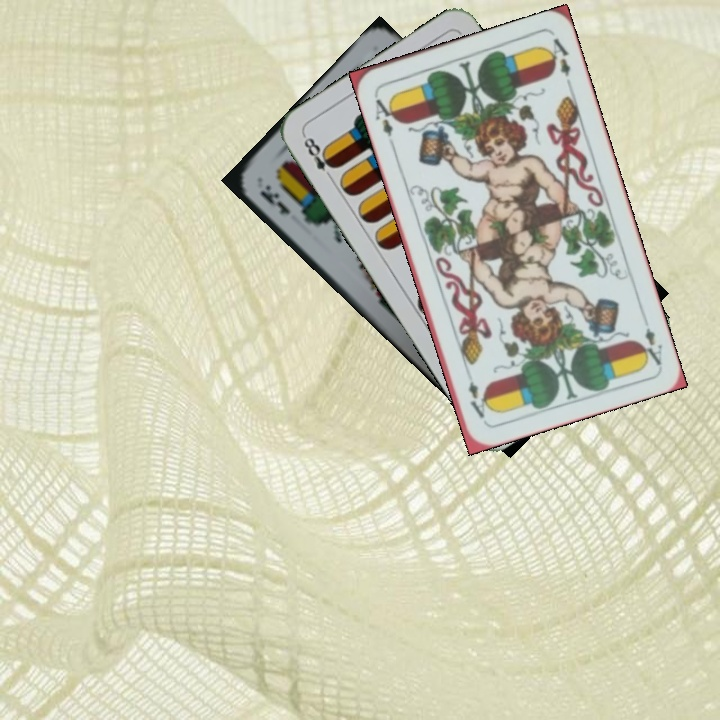E8: (299, 131, 340, 184)
EA: (636, 310, 665, 368), (370, 90, 400, 139)
EK: (255, 180, 294, 218)
